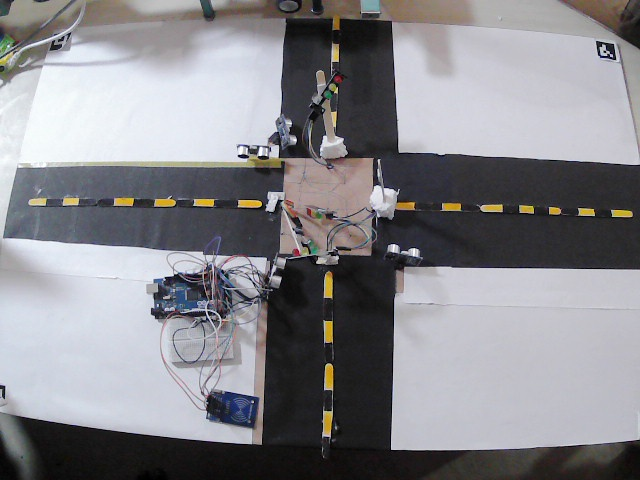aruco_marker: (142, 264, 233, 320), (165, 317, 239, 369), (203, 390, 262, 430), (271, 113, 297, 149), (263, 251, 286, 289), (234, 143, 275, 162), (593, 37, 621, 63), (52, 31, 73, 50), (0, 380, 9, 409)
black_strip: (210, 194, 238, 212), (319, 297, 337, 318), (319, 436, 333, 462), (591, 202, 611, 219), (320, 341, 335, 362), (461, 199, 483, 213), (414, 202, 441, 213), (324, 387, 335, 411), (133, 195, 154, 207), (46, 193, 64, 207), (80, 195, 98, 207), (175, 196, 193, 207), (95, 196, 113, 207), (329, 63, 342, 78), (562, 204, 578, 216), (534, 203, 549, 215), (504, 202, 520, 213), (329, 30, 342, 42), (330, 93, 337, 111)
mixed_lane: (394, 200, 633, 218), (318, 270, 336, 465), (28, 198, 261, 209), (328, 16, 341, 122)
traffic_light: (304, 68, 344, 108), (281, 245, 324, 264), (300, 198, 332, 218), (296, 229, 311, 249)
